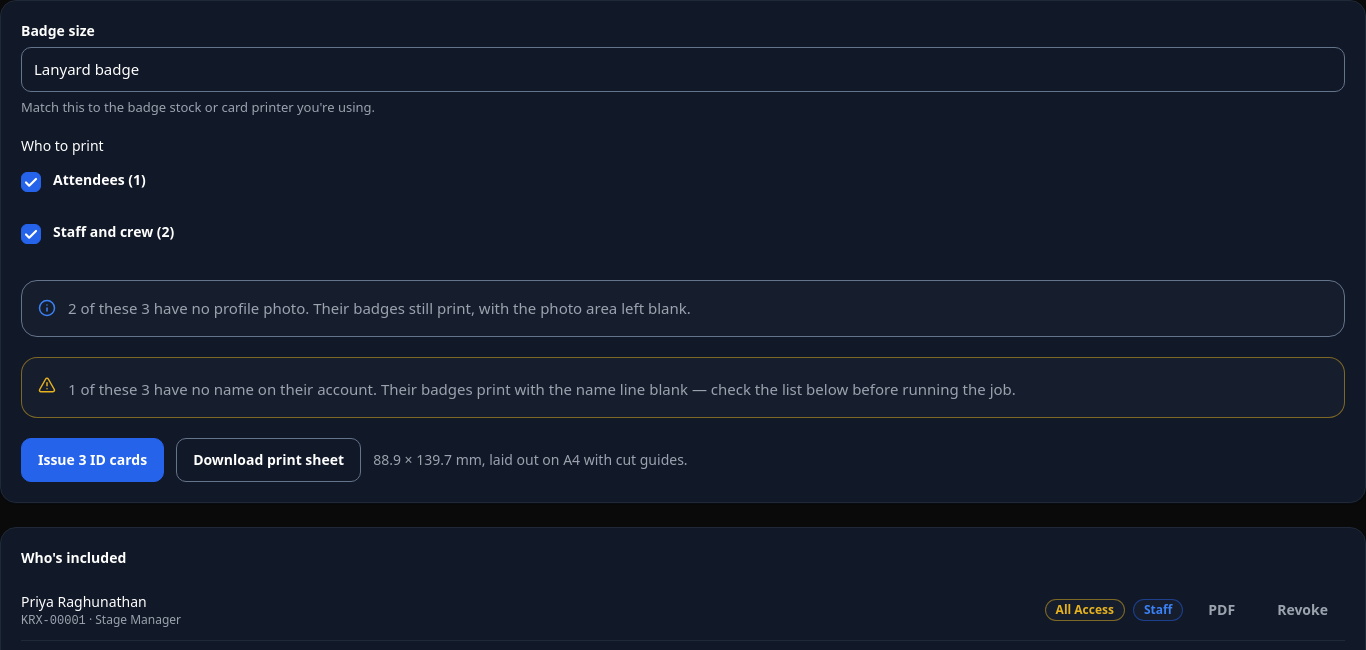
Test: the print run › reports what issuing actually did rather than a bare success
What coordinates should you click on to do the following:
click the button "Issue 3 ID cards"
I would click on:
 (93, 460)
Its box is [21,438,164,482].
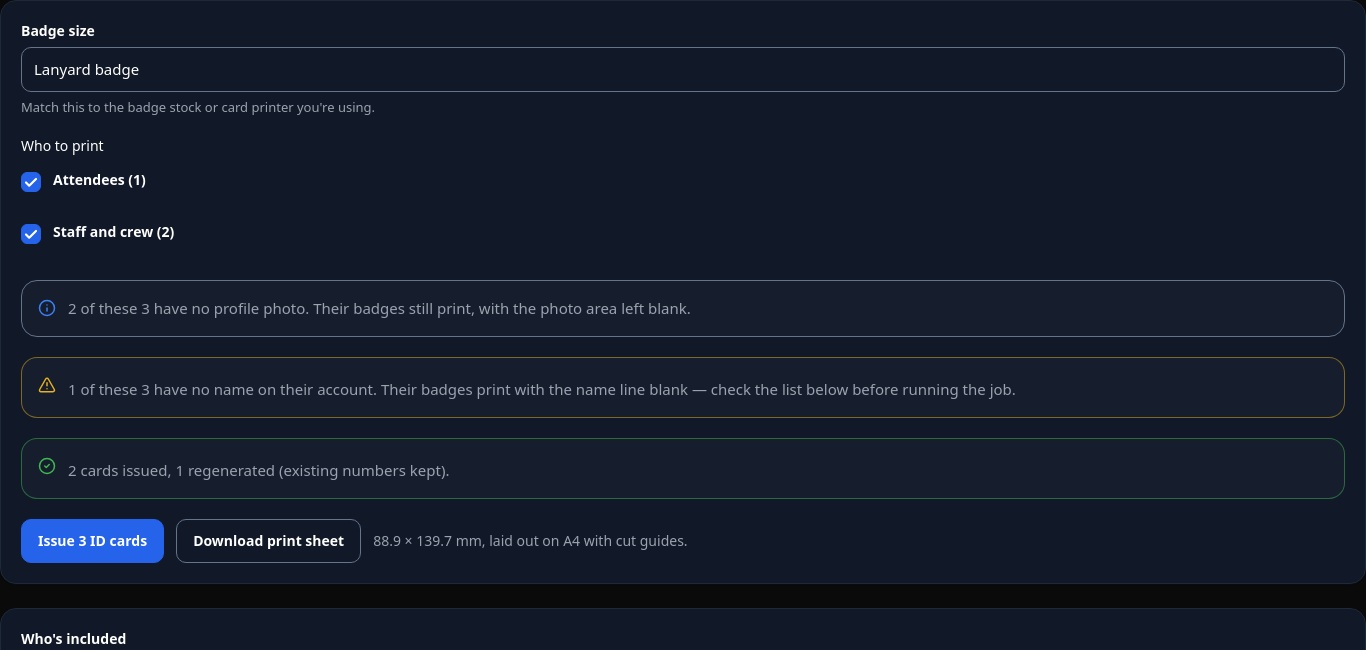
Expected: the text "2 cards issued, 1 regenerated (existing numbers kept)." is shown, [68,460,450,480]
